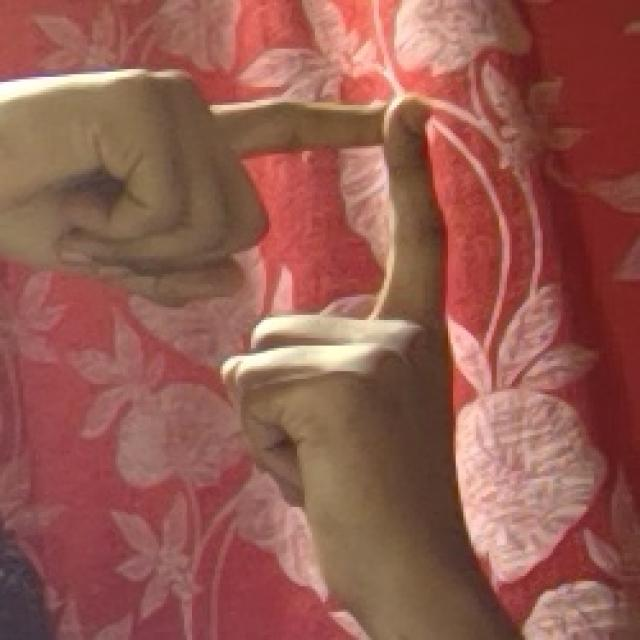Alphabet-E: (28, 54, 489, 609)
